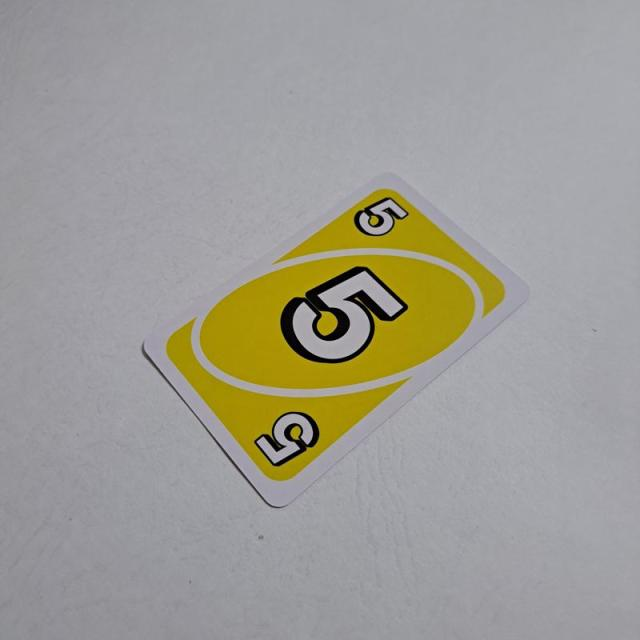Number_5: (349, 191, 415, 241)
Yellow_Card: (160, 182, 512, 486)
